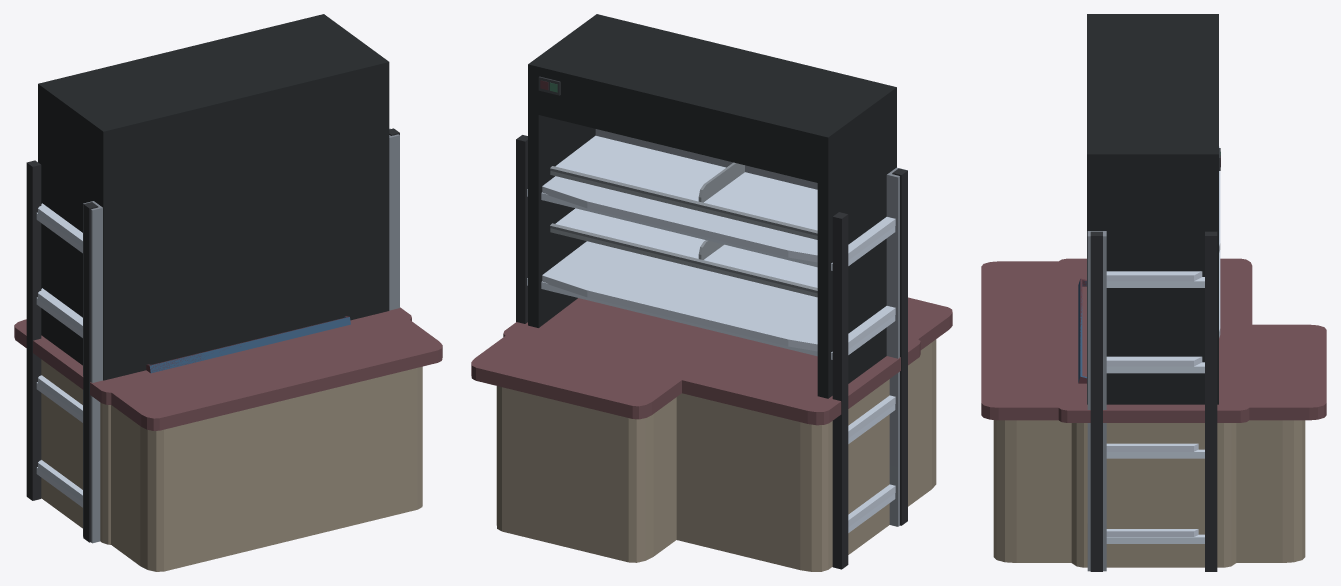
File: props_pack_clean.glb
3 views of the same model, side by side, from view 1: azimuth 30°, elevation 25°; view 2: azimuth 150°, elevation 25°; view 3: azimuth 270°, elevation 25° (orthographic). The views are drawn at different scales.
Parts seen in each view (by area): view 1: SM_Fridge, SM_Counter_Corner, SM_Counter, SM_Rack, SM_Shelf, SM_DisplayShelf2; view 2: SM_Fridge, SM_Counter, SM_Counter_Corner, SM_Shelf, SM_Rack, SM_Shelf2; view 3: SM_Fridge, SM_Counter_Corner, SM_Counter, SM_Rack, SM_Shelf, SM_DisplayShelf2.
Part boxes in pixels (<box>): SM_Fridge: <box>38,14,389,380</box>; SM_Counter_Corner: <box>111,320,442,571</box>; SM_Counter: <box>14,307,411,544</box>; SM_Rack: <box>26,128,399,542</box>; SM_Shelf: <box>38,128,399,543</box>; SM_DisplayShelf2: <box>149,316,350,373</box>; SM_Fridge: <box>528,14,896,398</box>; SM_Counter: <box>503,298,920,571</box>; SM_Counter_Corner: <box>471,297,952,562</box>; SM_Shelf: <box>542,129,907,527</box>; SM_Rack: <box>516,135,907,569</box>; SM_Shelf2: <box>638,139,817,189</box>; SM_Fridge: <box>1087,14,1220,404</box>; SM_Counter_Corner: <box>981,261,1326,562</box>; SM_Counter: <box>1055,258,1252,567</box>; SM_Rack: <box>1090,231,1217,571</box>; SM_Shelf: <box>1087,146,1220,571</box>; SM_DisplayShelf2: <box>1078,279,1086,382</box>.
Bounding box in the file's own units: 1.74 × 2.19 × 1.66.
1 material, 1 textured.
